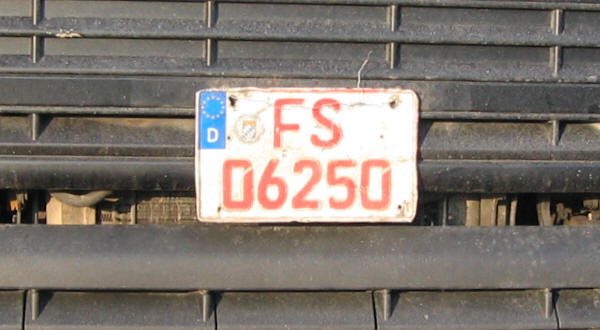license_plate: (194, 86, 419, 223)
